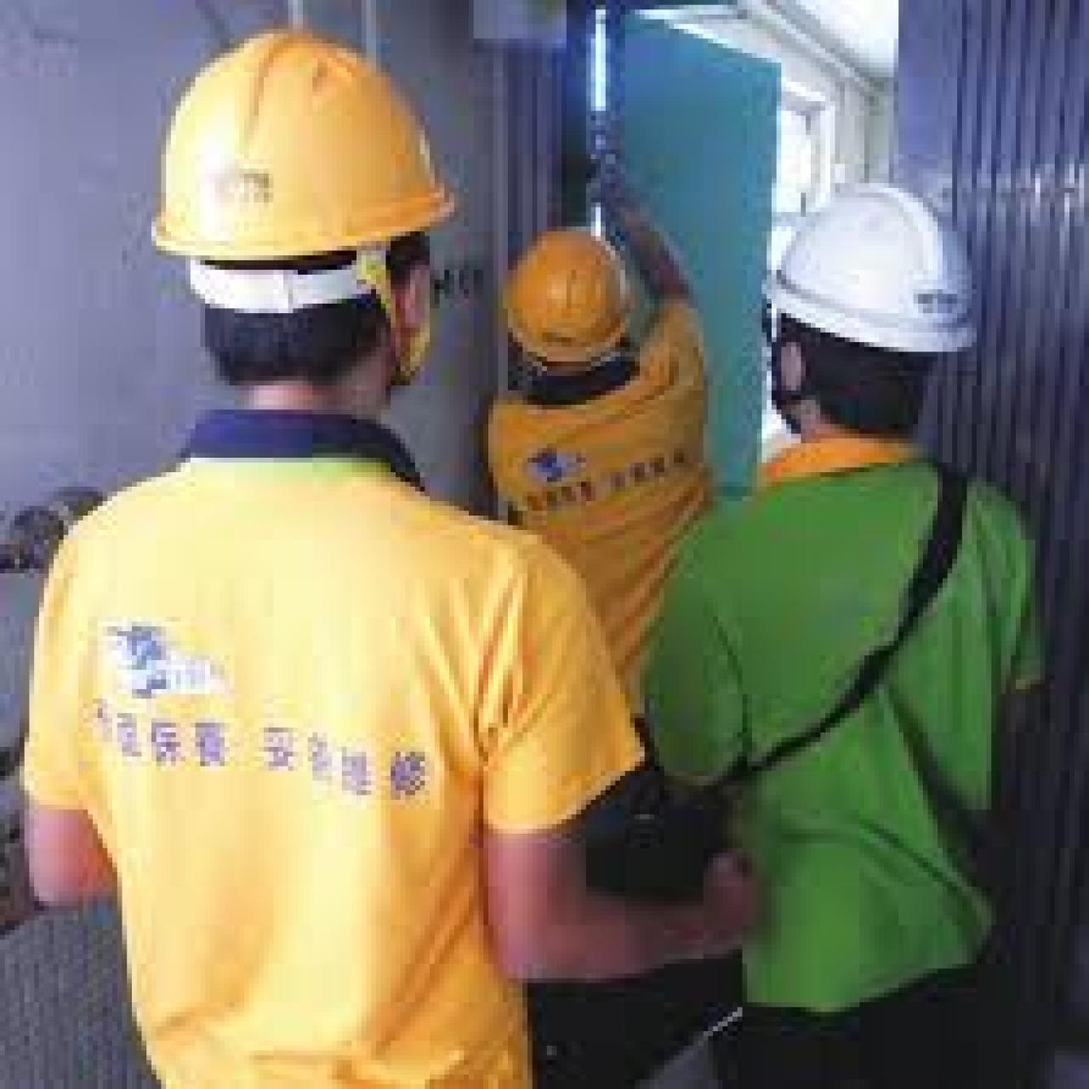NO_Safety_Vest: (35, 436, 637, 1086), (683, 456, 1047, 1004), (486, 372, 716, 666)
Person: (12, 22, 763, 1089), (651, 158, 1069, 1089), (472, 137, 734, 706)
